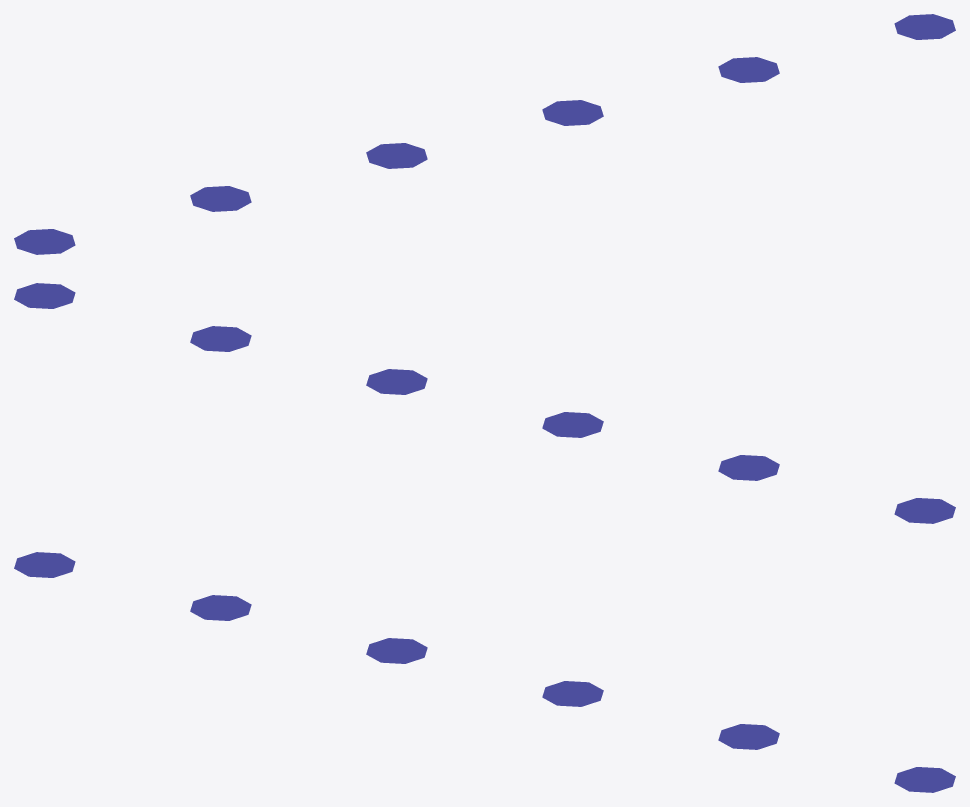
Rendered from cylinder_material.011_0_lev1.glb.
3 views of the same model, one above another, from view 1: azimuth 30°, elevation 25°; view 2: azimuth 150°, elevation 25°; view 3: azimuth 330°, elevation 25° (orthographic).
Visible parts, largest first — view 1: cylinder_material.011_0_lev1; view 2: cylinder_material.011_0_lev1; view 3: cylinder_material.011_0_lev1.
Boxes of the visible parts, bbox=[...] form: cylinder_material.011_0_lev1: bbox=[14, 14, 955, 254]; cylinder_material.011_0_lev1: bbox=[14, 283, 955, 523]; cylinder_material.011_0_lev1: bbox=[14, 552, 955, 792].
Size of the model in its own units: 26.44 by 5.27e-07 by 1.56.
